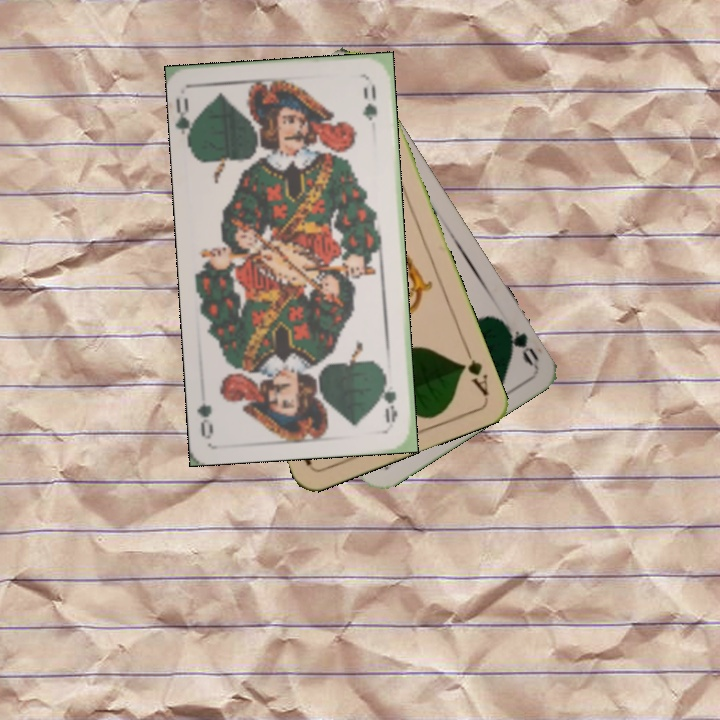GA: (456, 342, 491, 399)
GO: (495, 317, 542, 368), (174, 94, 202, 149), (378, 368, 400, 425)
